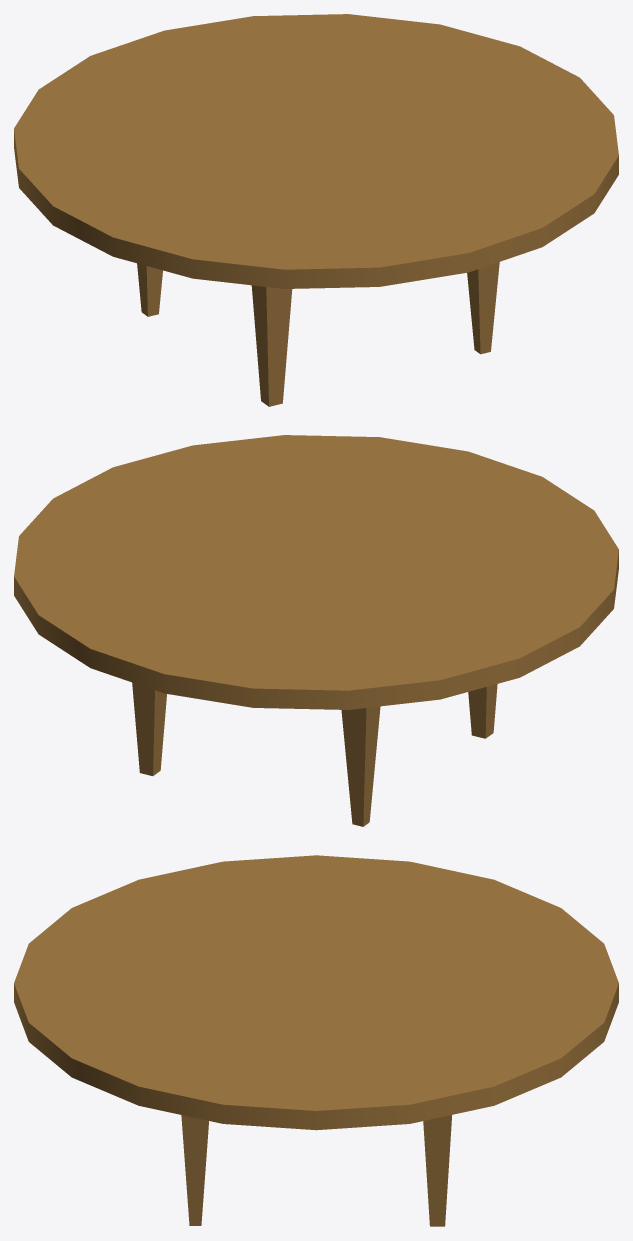
File: Table.fbx
3 renders of one model, top to bottom at view 1: azimuth 30°, elevation 25°; view 2: azimuth 150°, elevation 25°; view 3: azimuth 270°, elevation 25°, orthographic.
Visible parts, largest first — view 1: table; view 2: table; view 3: table.
Part boxes in pixels (x1,y1,x2,y2): table: [14, 14, 618, 406]; table: [14, 435, 618, 826]; table: [14, 855, 618, 1226].
Size of the model in its own units: 2 by 0.69 by 2.
